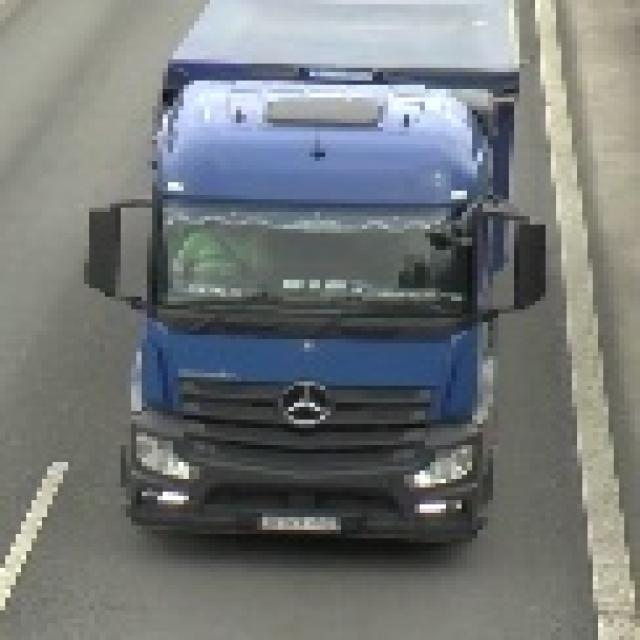TRUCK: (80, 0, 544, 546)
